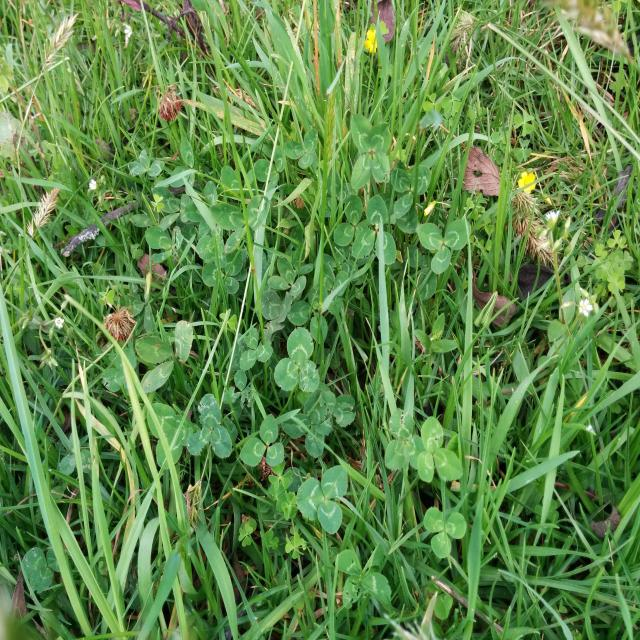Four Leaf Clover: (350, 114, 390, 188)
